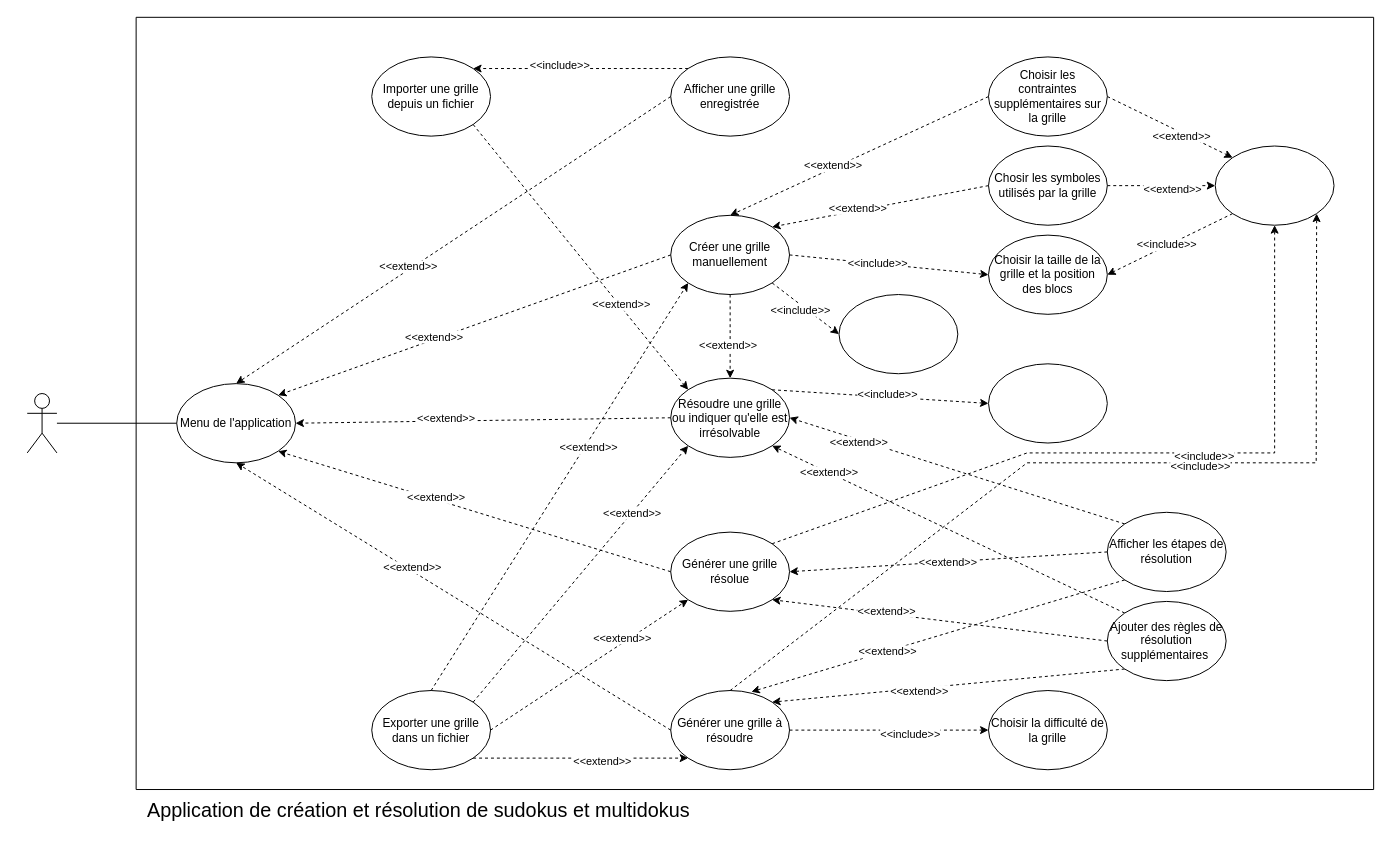
Some shapes in this 1391 by 846 pixel diagram are drawn without their labels. The centre of each missing label's shape, as x and y in pixels:
Choisir l'algorithme de résolution: the point at 1047,403
Choisir les valeurs des cases: the point at 898,334
Créer une grille vide: the point at 1274,185
Utilsateur: the point at 41,423
